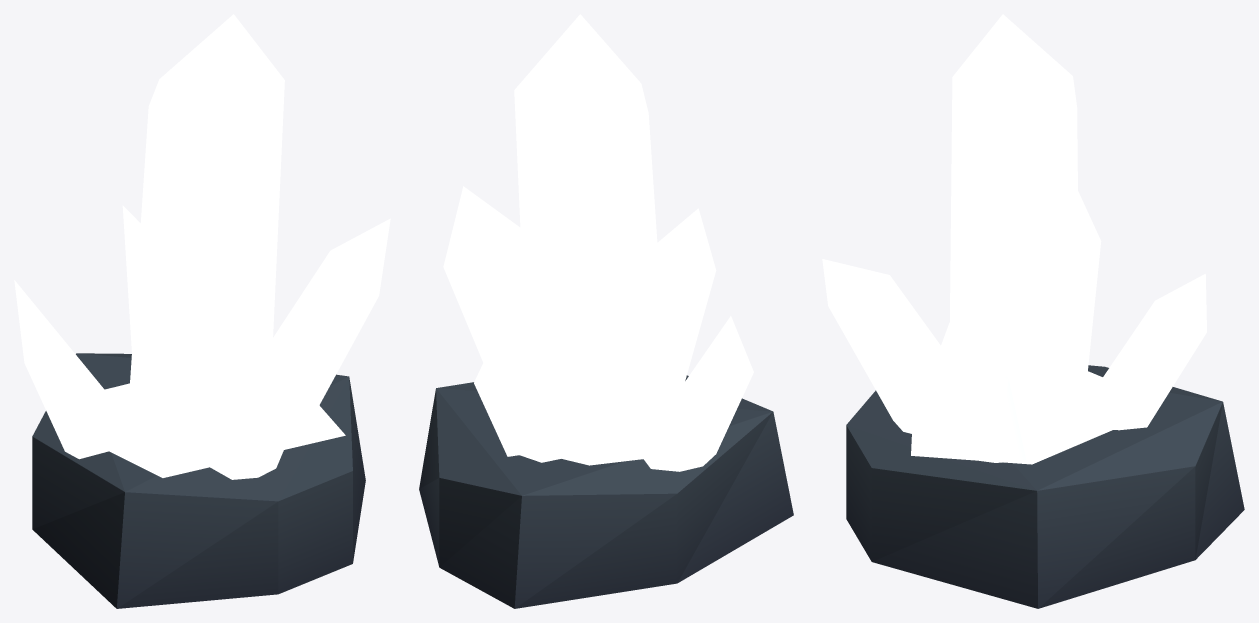
File: wf_crystals_small-lod1.glb
The picture shows the model from 3 angles, left to right: view 1: azimuth 30°, elevation 25°; view 2: azimuth 150°, elevation 25°; view 3: azimuth 270°, elevation 25°; orthographic projection. The views are drawn at different scales.
Parts seen in each view (by area): view 1: wf_crystals_small; view 2: wf_crystals_small; view 3: wf_crystals_small.
Boxes of the visible parts, left/top/right/bottom form: wf_crystals_small: left=14, top=14, right=390, bottom=608; wf_crystals_small: left=419, top=14, right=793, bottom=608; wf_crystals_small: left=822, top=14, right=1244, bottom=608.
Bounding box in the file's own units: 0.6969 × 0.998 × 0.7331.
